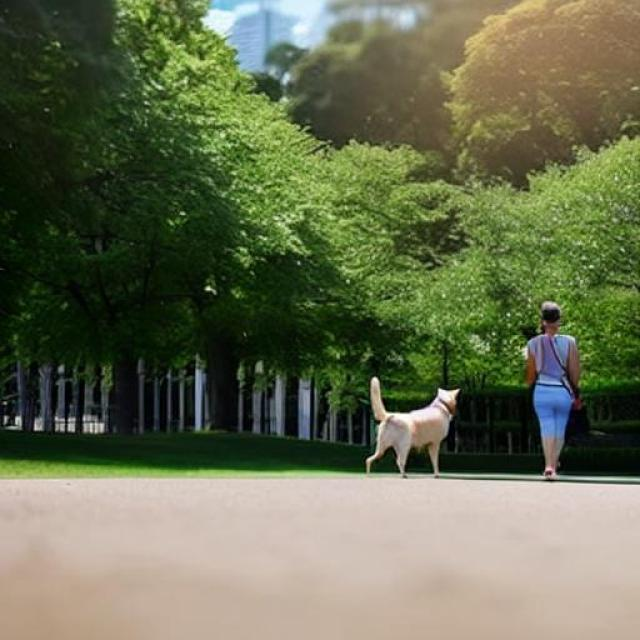Unleashed_Dog: (368, 378, 573, 479)
